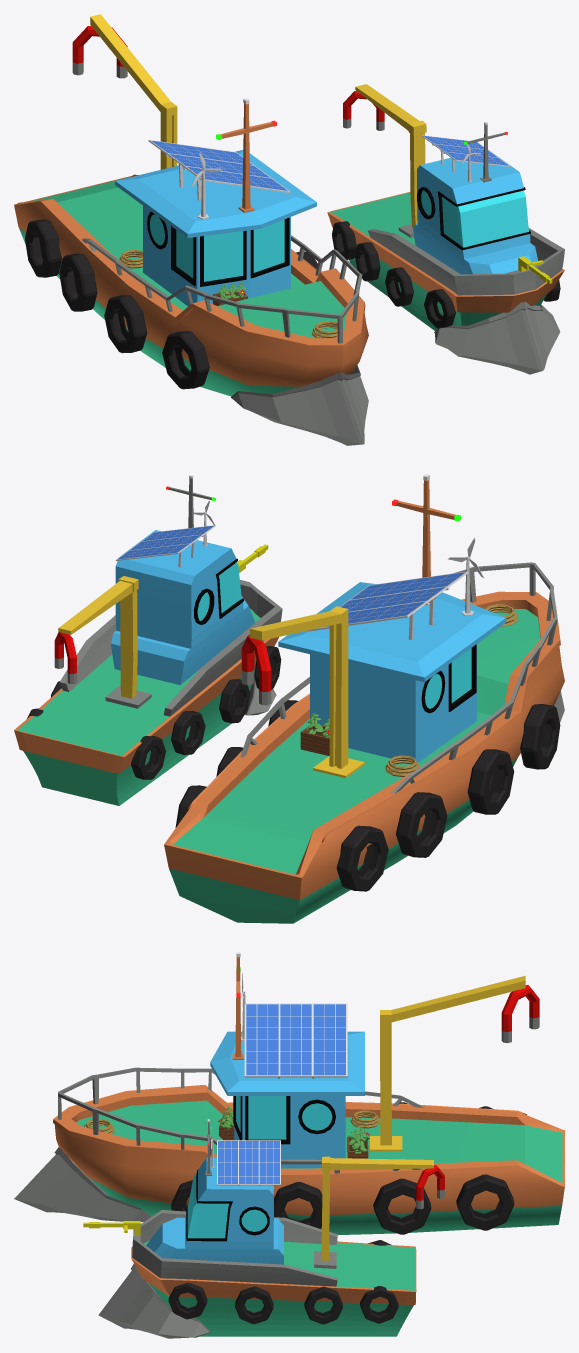
The model's file is Boats.fbx.
3 renders of one model, top to bottom at view 1: azimuth 30°, elevation 25°; view 2: azimuth 150°, elevation 25°; view 3: azimuth 270°, elevation 25°, orthographic. The views are drawn at different scales.
Parts seen in each view (by area): view 1: LrgHull, SmlHull, LrgTires, LrgIceBreaker, SmlIceBraker, SmlTires, LrgSolarPanel, LrgCrane, SmlSolarPanel, LrgMagnet, SmlMagnet; view 2: LrgHull, SmlHull, LrgTires, LrgCrane, SmlTires, LrgSolarPanel, SmlSolarPanel, LrgMagnet, SmlMagnet; view 3: LrgHull, SmlHull, LrgSolarPanel, LrgTires, LrgIceBreaker, LrgCrane, SmlTires, SmlIceBraker, SmlSolarPanel, LrgMagnet, SmlMagnet.
Boxes of the visible parts, bbox=[...] form: LrgHull: bbox=[14, 98, 368, 396]; SmlHull: bbox=[327, 84, 564, 330]; LrgTires: bbox=[25, 219, 321, 389]; LrgIceBreaker: bbox=[231, 365, 368, 445]; SmlIceBraker: bbox=[434, 301, 560, 374]; SmlTires: bbox=[332, 221, 560, 328]; LrgSolarPanel: bbox=[148, 140, 290, 200]; LrgCrane: bbox=[90, 14, 177, 169]; SmlSolarPanel: bbox=[421, 135, 510, 172]; LrgMagnet: bbox=[72, 26, 127, 78]; SmlMagnet: bbox=[343, 91, 384, 130]; LrgHull: bbox=[164, 474, 564, 923]; SmlHull: bbox=[14, 475, 282, 805]; LrgTires: bbox=[175, 700, 560, 891]; LrgCrane: bbox=[250, 606, 364, 778]; SmlTires: bbox=[27, 646, 281, 779]; LrgSolarPanel: bbox=[308, 571, 468, 640]; SmlSolarPanel: bbox=[116, 525, 215, 567]; LrgMagnet: bbox=[241, 634, 271, 705]; SmlMagnet: bbox=[54, 632, 76, 683]; LrgHull: bbox=[53, 952, 564, 1234]; SmlHull: bbox=[131, 1119, 433, 1336]; LrgSolarPanel: bbox=[244, 1003, 347, 1078]; LrgTires: bbox=[171, 1102, 514, 1234]; LrgIceBreaker: bbox=[14, 1147, 151, 1221]; LrgCrane: bbox=[370, 975, 525, 1151]; SmlTires: bbox=[168, 1240, 398, 1324]; SmlIceBraker: bbox=[98, 1264, 210, 1338]; SmlSolarPanel: bbox=[217, 1140, 280, 1185]; LrgMagnet: bbox=[501, 985, 539, 1042]; SmlMagnet: bbox=[416, 1165, 444, 1209].
Bounding box in the file's own units: 592 × 423 × 776.
